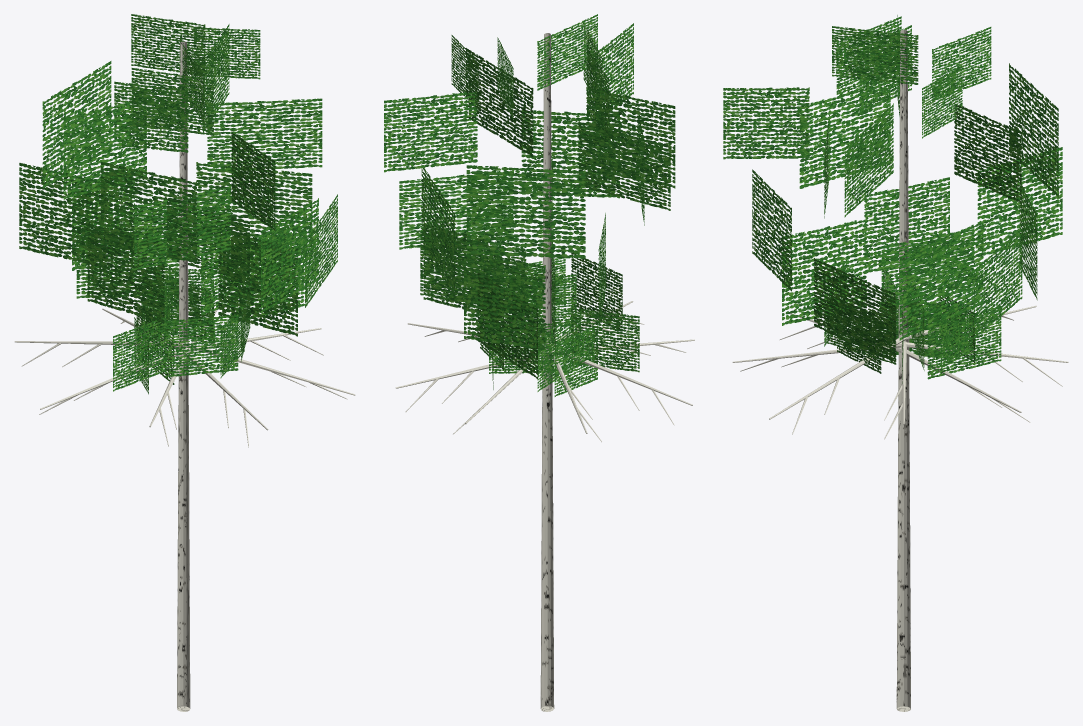
File: Betula_pendula_dense_crown_50m.glb
The picture shows the model from 3 angles, left to right: view 1: azimuth 30°, elevation 25°; view 2: azimuth 150°, elevation 25°; view 3: azimuth 270°, elevation 25°; orthographic projection.
Parts seen in each view (by area): view 1: 32_Dense_Leaf_Card_Clusters, White_Birch_Trunk; view 2: 32_Dense_Leaf_Card_Clusters, White_Birch_Trunk; view 3: 32_Dense_Leaf_Card_Clusters, White_Birch_Trunk.
Part boxes in pixels (<box>): 32_Dense_Leaf_Card_Clusters: <box>19,14,337,394</box>; White_Birch_Trunk: <box>177,41,190,711</box>; 32_Dense_Leaf_Card_Clusters: <box>384,14,675,396</box>; White_Birch_Trunk: <box>540,33,554,711</box>; 32_Dense_Leaf_Card_Clusters: <box>723,15,1062,383</box>; White_Birch_Trunk: <box>896,30,910,711</box>.
Size of the model in its own units: 6 by 13 by 6.
2 materials, 2 textured.
